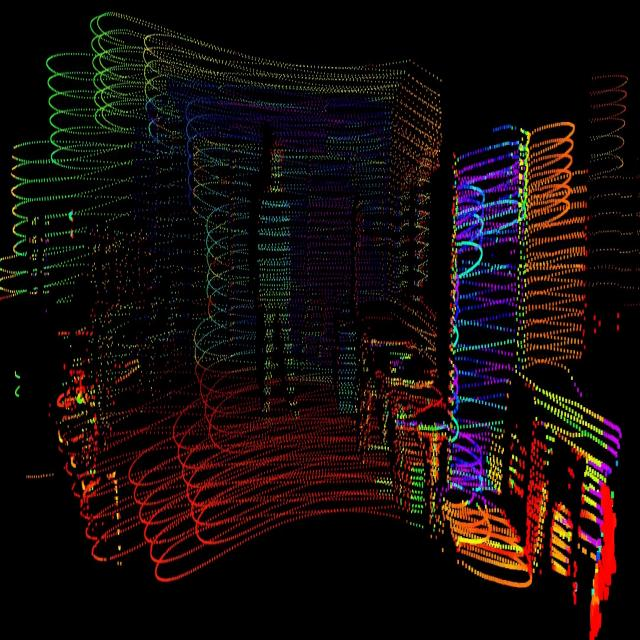human: (252, 134, 308, 428)
